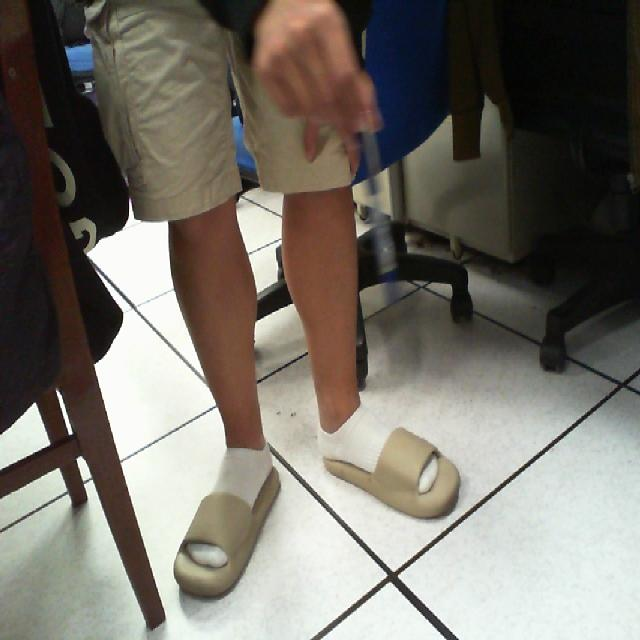Pen: (349, 86, 413, 327)
